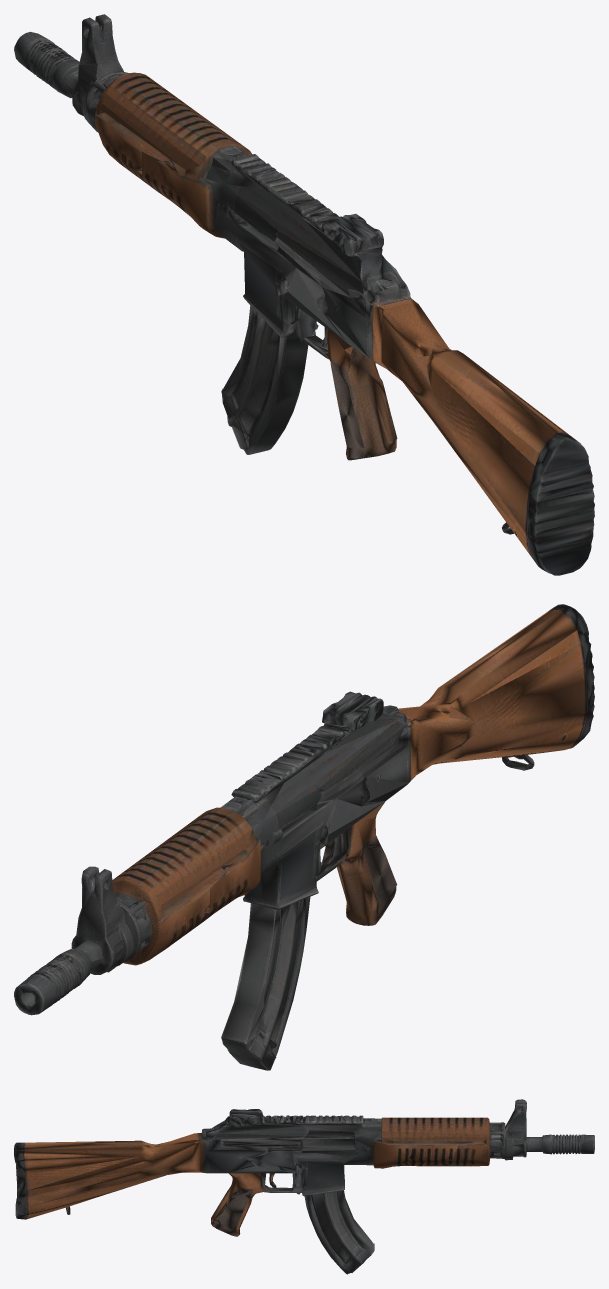
The model's file is ar_corvid.glb.
The picture shows the model from 3 angles, top to bottom: view 1: azimuth 30°, elevation 25°; view 2: azimuth 150°, elevation 25°; view 3: azimuth 270°, elevation 25°; orthographic projection. The views are drawn at different scales.
Visible parts, largest first — view 1: ar_corvid; view 2: ar_corvid; view 3: ar_corvid.
Boxes of the visible parts, left/top/right/bottom form: ar_corvid: left=14, top=14, right=594, bottom=575; ar_corvid: left=14, top=604, right=594, bottom=1070; ar_corvid: left=14, top=1099, right=594, bottom=1274.
Bounding box in the file's own units: 0.0643 × 0.2845 × 0.88.
1 material, 1 textured.
